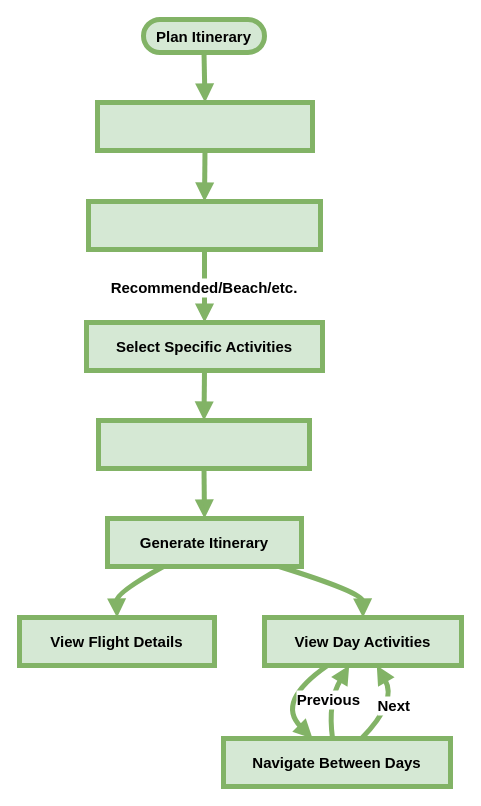
The diagram is 481 pixels wide and 806 high, and some of its shapes have lost their labels. Here are the shapes that lost their labels. From the top down, the centre of each, then its label:
At (204,126): "Open Activities Modal".
At (204,225): "Select Activity Category".
At (204,444): "Continue to Itinerary".
